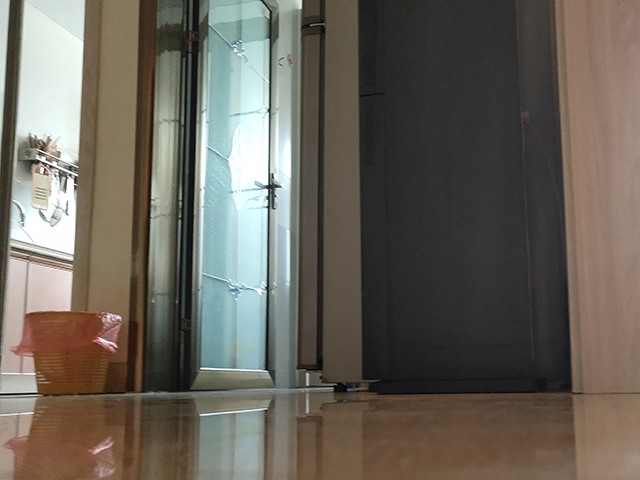cabinet: (1, 237, 74, 396)
trashcan: (21, 307, 124, 397)
